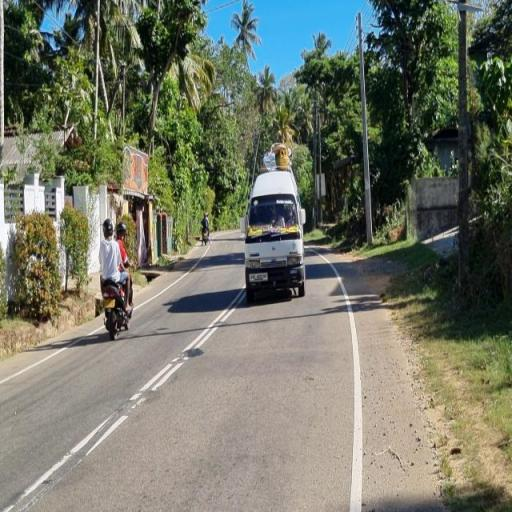double_white_line: (126, 290, 244, 408)
